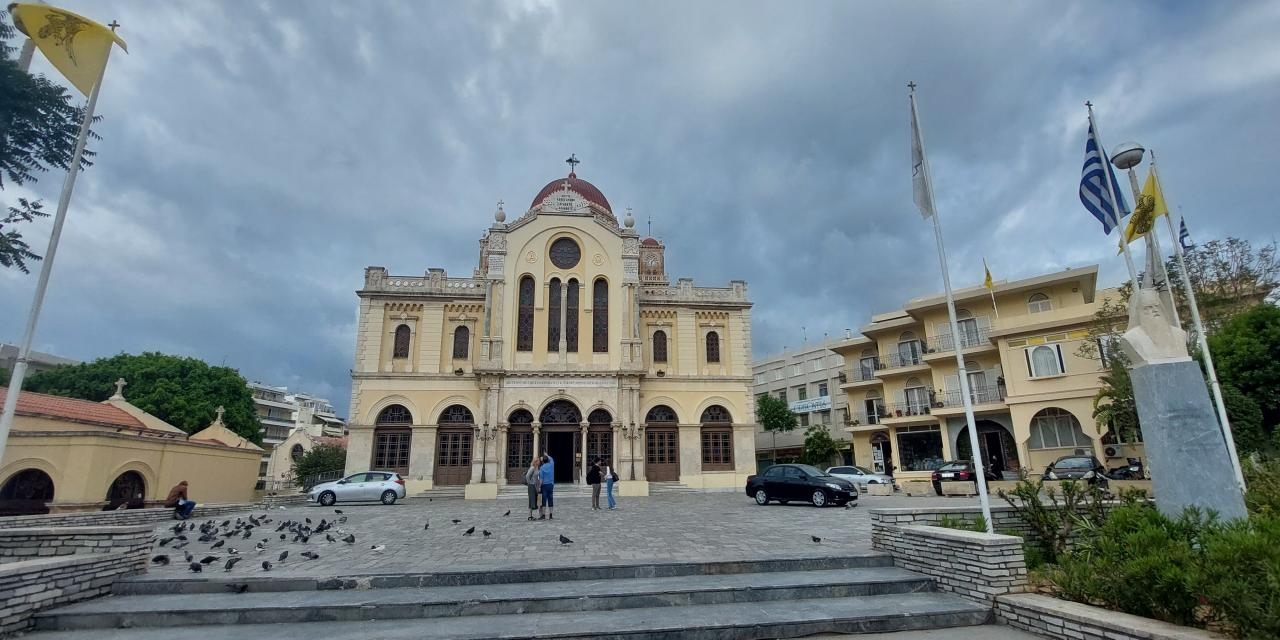Agios Minas: (345, 147, 760, 501)
